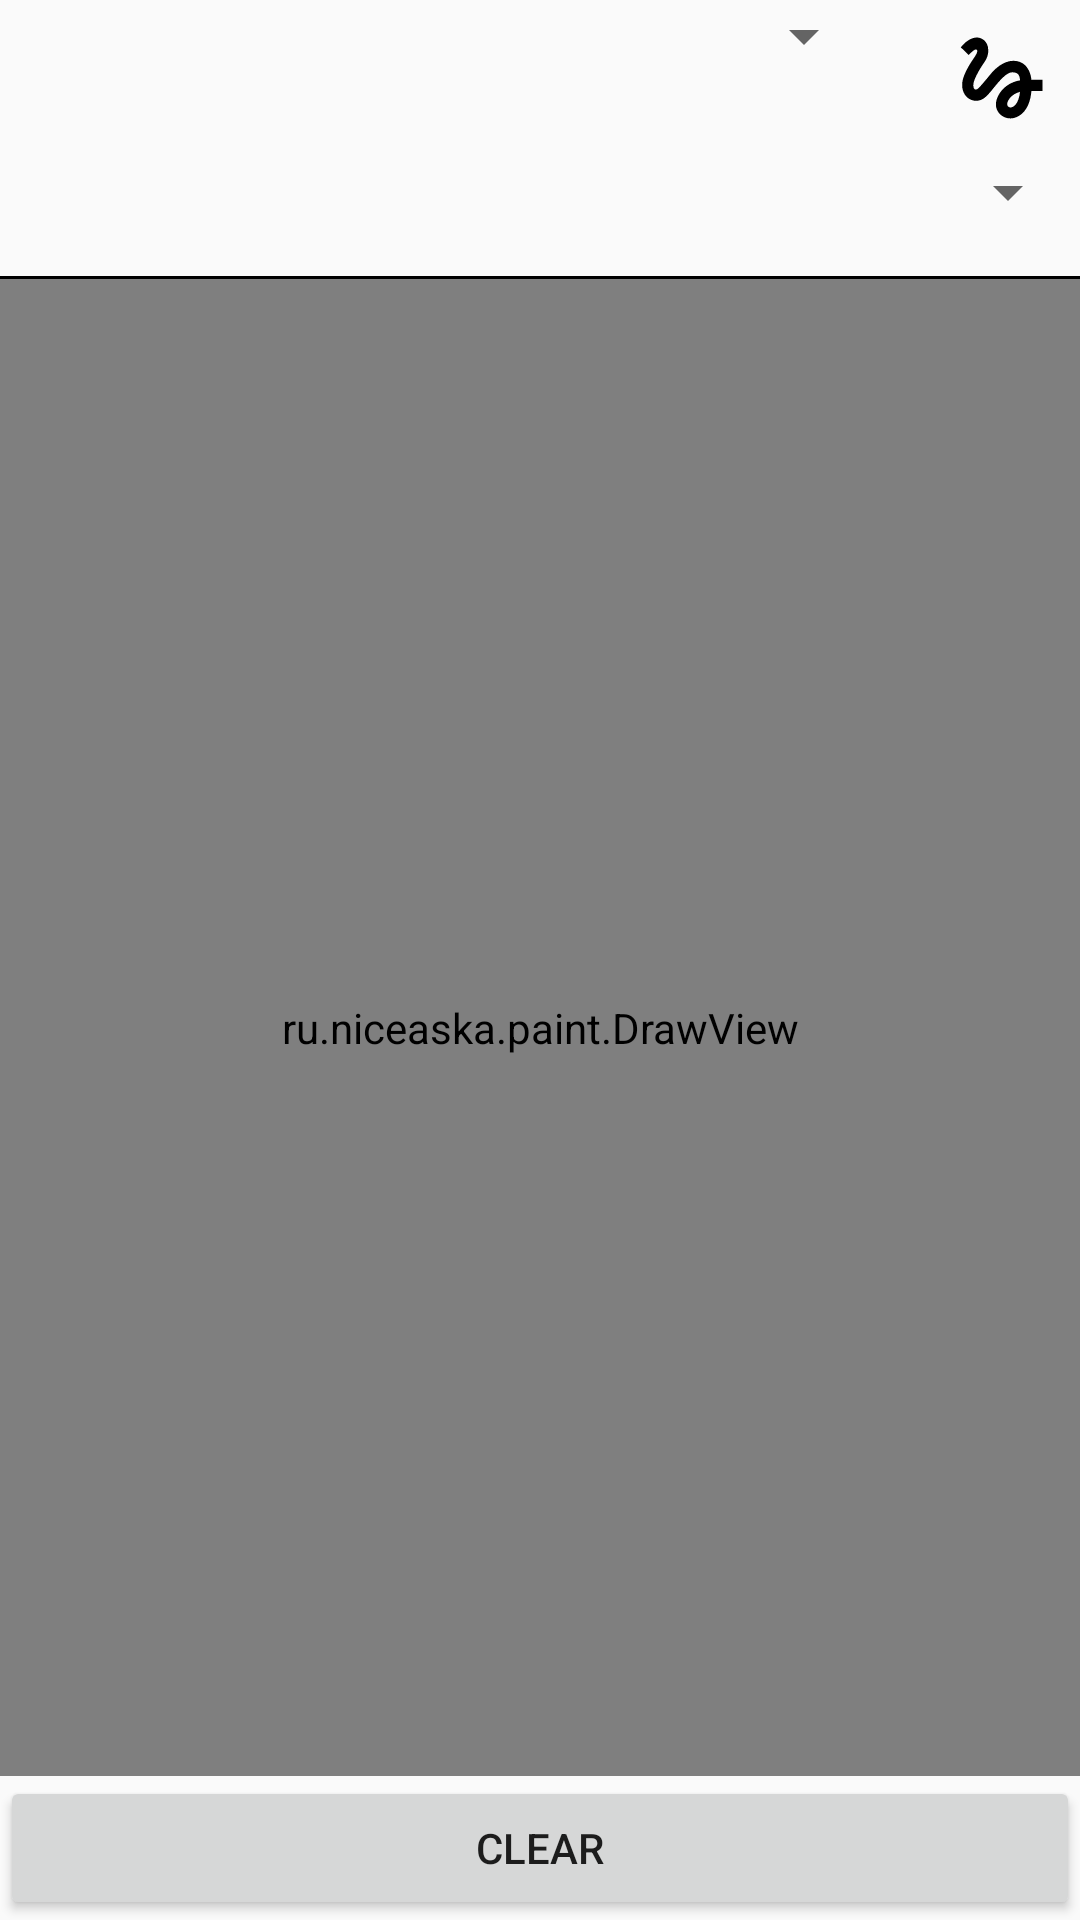

Point at icon controls on the screen. Image size 1080px×1920px, points as point (x, y).
gesture: point (1002, 78)
